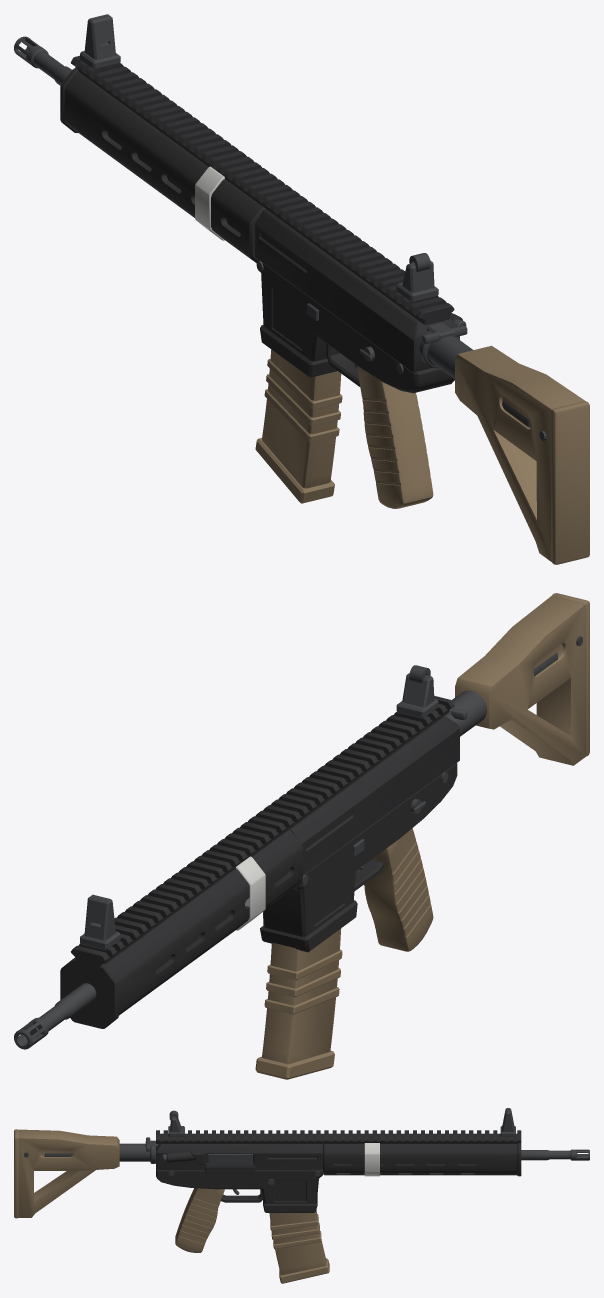
3 renders of one model, top to bottom at view 1: azimuth 30°, elevation 25°; view 2: azimuth 150°, elevation 25°; view 3: azimuth 270°, elevation 25°, orthographic. The views are drawn at different scales.
Parts seen in each view (by area): view 1: Body, Furniture, Mag, Metal, Tape; view 2: Body, Furniture, Mag, Metal, Tape; view 3: Body, Furniture, Mag, Metal, Tape.
Part boxes in pixels (bbox=[...]): Body: bbox=[60, 55, 462, 393]; Furniture: bbox=[357, 345, 589, 564]; Mag: bbox=[255, 349, 342, 503]; Metal: bbox=[14, 14, 546, 440]; Tape: bbox=[195, 166, 224, 240]; Body: bbox=[60, 696, 459, 1028]; Furniture: bbox=[364, 593, 589, 951]; Mag: bbox=[255, 928, 342, 1079]; Metal: bbox=[14, 636, 582, 1049]; Tape: bbox=[236, 856, 265, 930]; Body: bbox=[156, 1130, 521, 1212]; Furniture: bbox=[14, 1129, 224, 1252]; Mag: bbox=[269, 1209, 329, 1283]; Metal: bbox=[24, 1108, 589, 1194]; Tape: bbox=[364, 1143, 379, 1176].
Bounding box in the file's own units: 0.3073 × 1.44 × 4.45.
